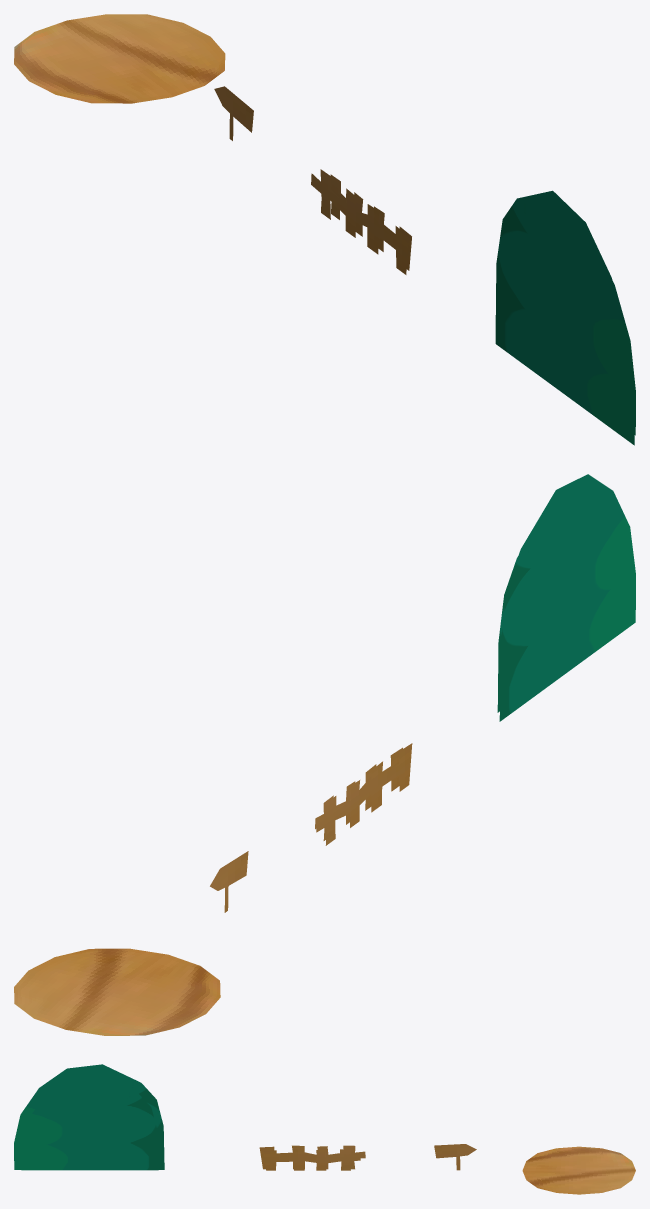
The model's file is DecorationDefM.fbx.
3 views of the same model, one above another, from view 1: azimuth 30°, elevation 25°; view 2: azimuth 150°, elevation 25°; view 3: azimuth 270°, elevation 25° (orthographic). The views are drawn at different scales.
Visible parts, largest first — view 1: Plane.001, Plane.005, Plane.003, Plane.002, Plane.004; view 2: Plane.001, Plane.005, Plane.003, Plane.004, Plane.002; view 3: Plane, Plane.005, Plane.001, Plane.002, Plane.003, Plane.004.
Part boxes in pixels (left/top/right/bottom): Plane.001: left=495, top=190, right=634, bottom=445; Plane.005: left=14, top=14, right=225, bottom=103; Plane.003: left=311, top=169, right=409, bottom=274; Plane.002: left=330, top=174, right=411, bottom=270; Plane.004: left=214, top=86, right=253, bottom=140; Plane.001: left=499, top=474, right=635, bottom=721; Plane.005: left=14, top=948, right=220, bottom=1035; Plane.003: left=316, top=743, right=412, bottom=845; Plane.004: left=210, top=851, right=248, bottom=912; Plane.002: left=315, top=747, right=402, bottom=840; Plane: left=21, top=1076, right=158, bottom=1170; Plane.005: left=522, top=1146, right=635, bottom=1194; Plane.001: left=14, top=1064, right=164, bottom=1169; Plane.002: left=263, top=1149, right=360, bottom=1170; Plane.003: left=259, top=1145, right=365, bottom=1169; Plane.004: left=434, top=1144, right=476, bottom=1170.
Size of the model in its own units: 183 by 188 by 1004.
6 materials, 6 textured.
